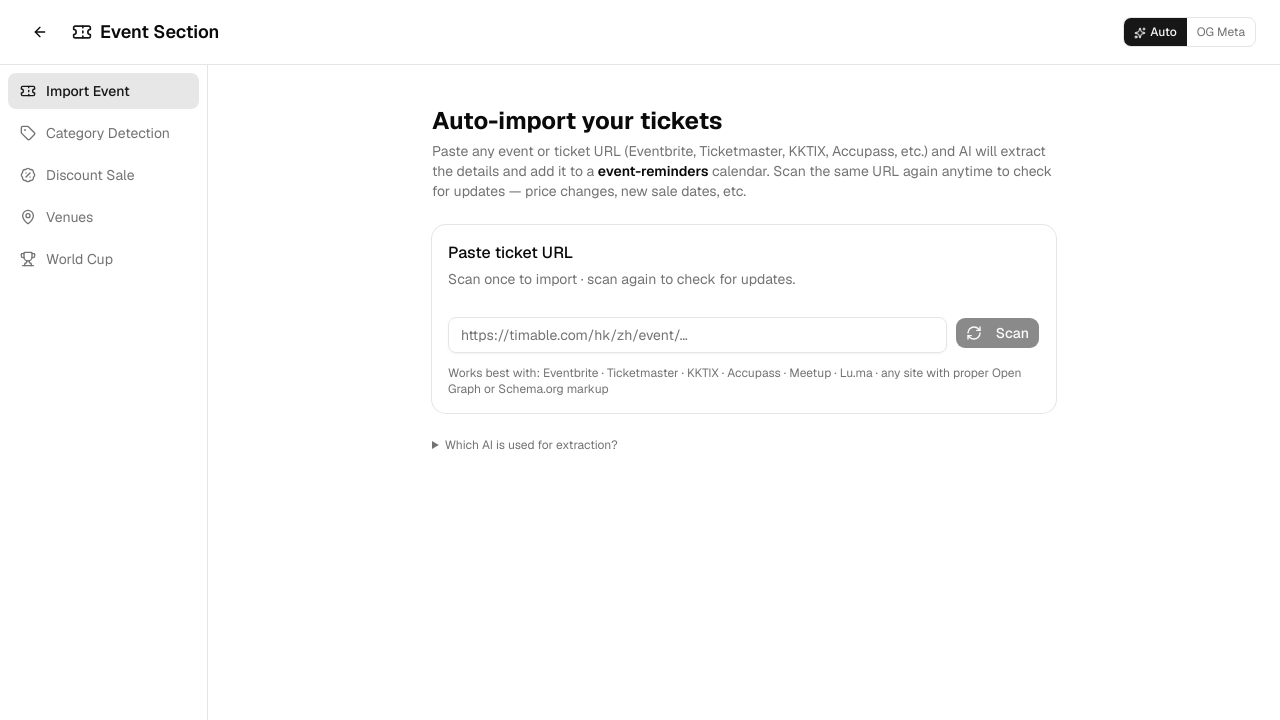
Test: TicketSection — Category Detection calendar list › shows an empty state when the calendar list loads with zero calendars
The image size is (1280, 720).
Click the button "Category Detection": point(104, 133) [8,115,199,151]
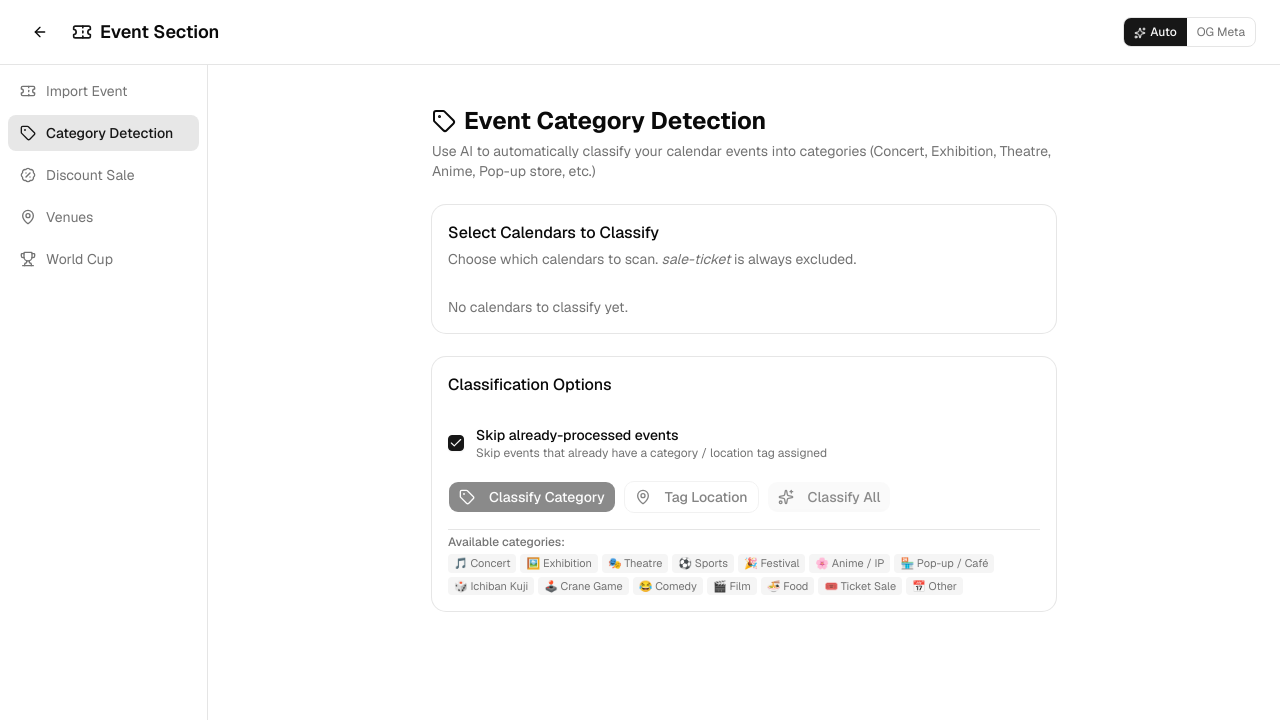
expect the text "No calendars to classify yet." is shown: met, box [448,298,628,316]
